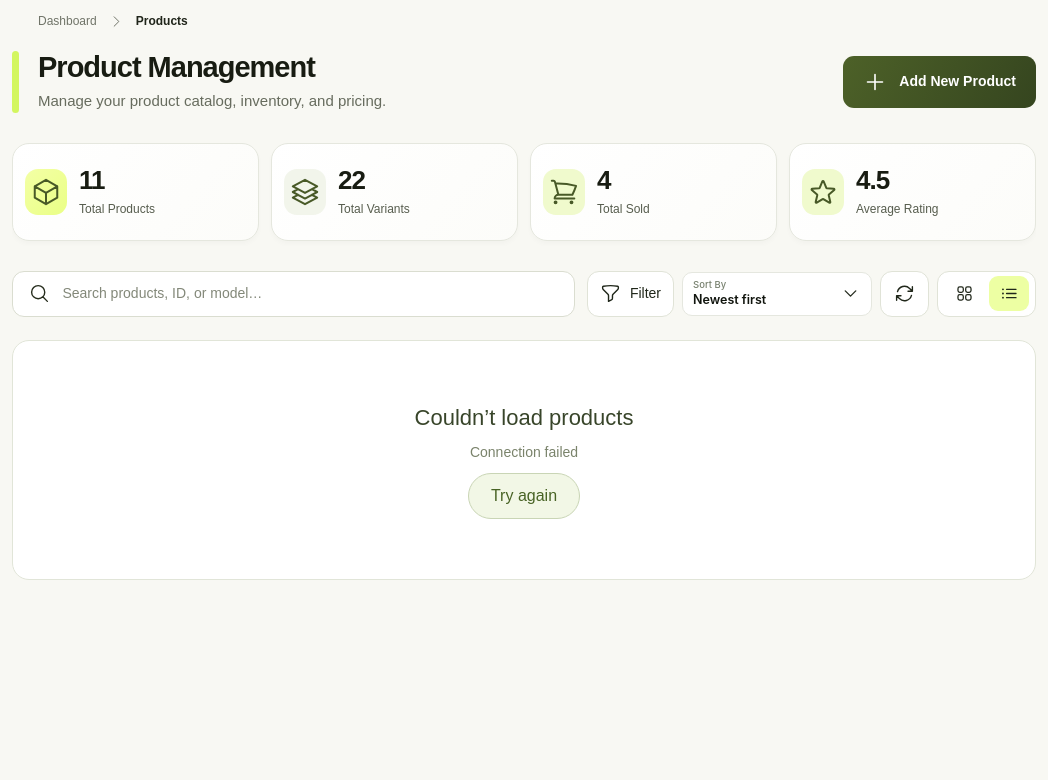
Test: request failures show retry instead of an empty catalog
expect the message "Couldn’t load products Connection failed Try again" is shown: met, box [12, 340, 1036, 580]
Click the button "Try again": point(524, 496) [468, 473, 580, 519]
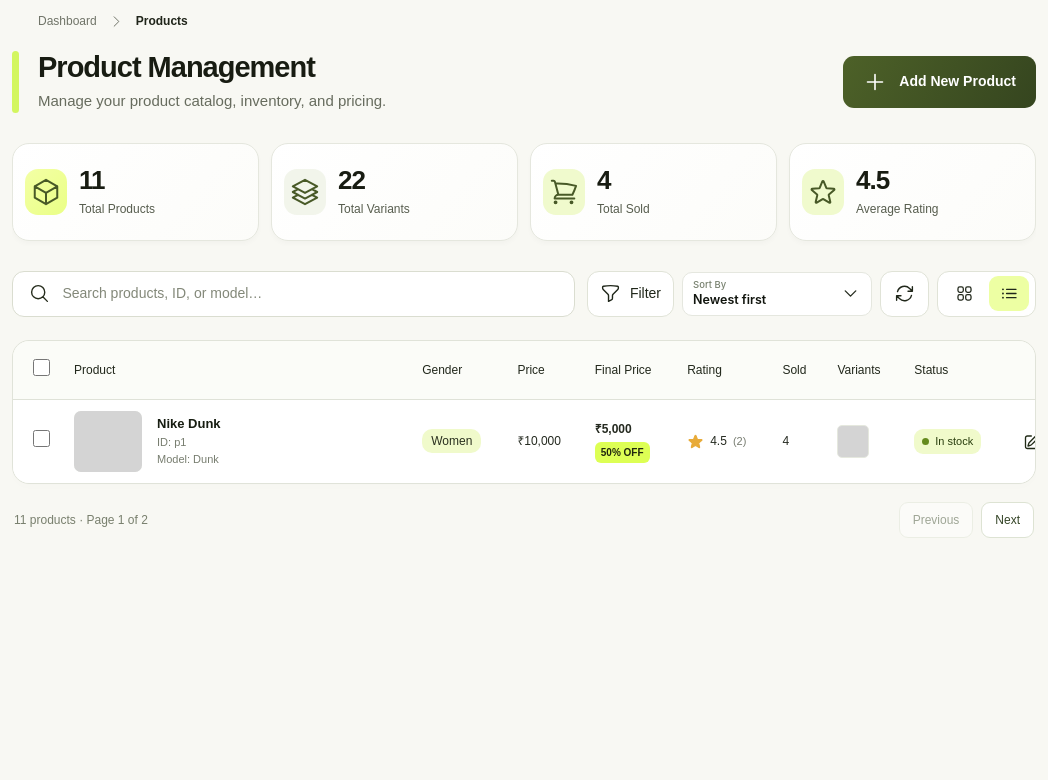
expect the link "Nike Dunk ID: p1 Model: Dunk" is shown: met, box [74, 411, 221, 472]
